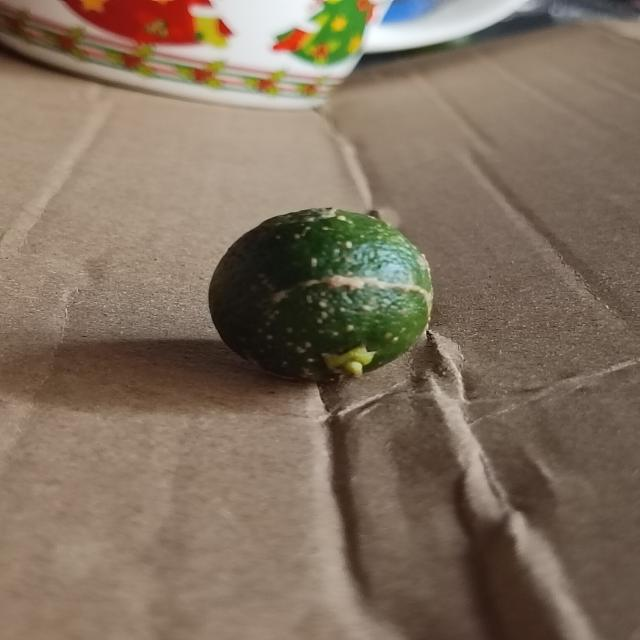scab: (214, 209, 433, 378)
